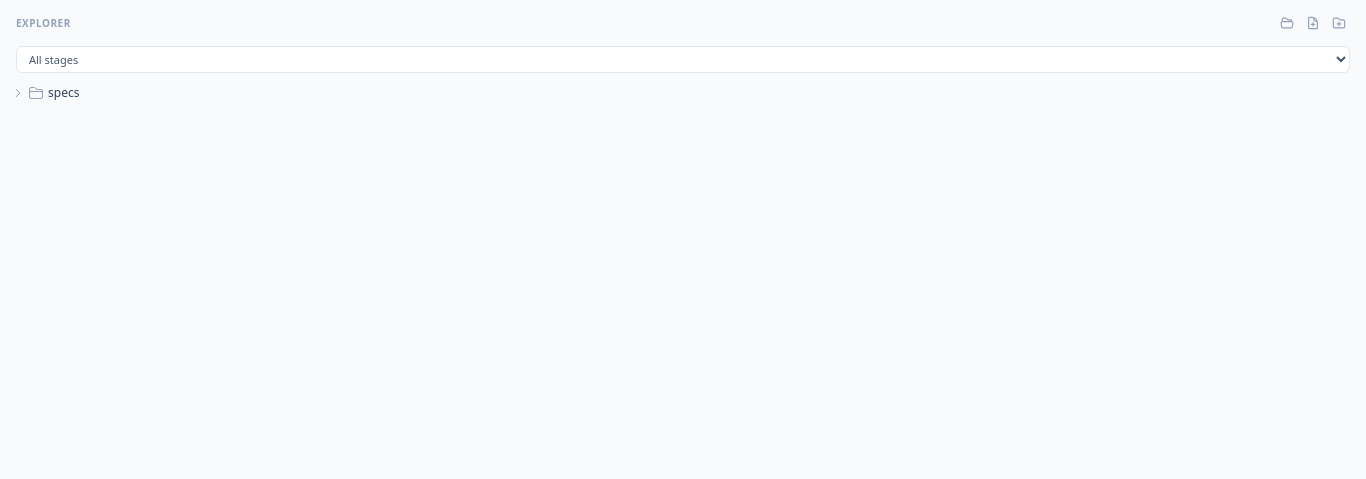
Test: FileTree folder ticket suggestions › shows "Generate ticket suggestions" in folder context menu
The width and height of the screenshot is (1366, 479).
# Right-click on the folder
Right-click the text "specs" at {"x": 64, "y": 92}, box [48,84,79,101]
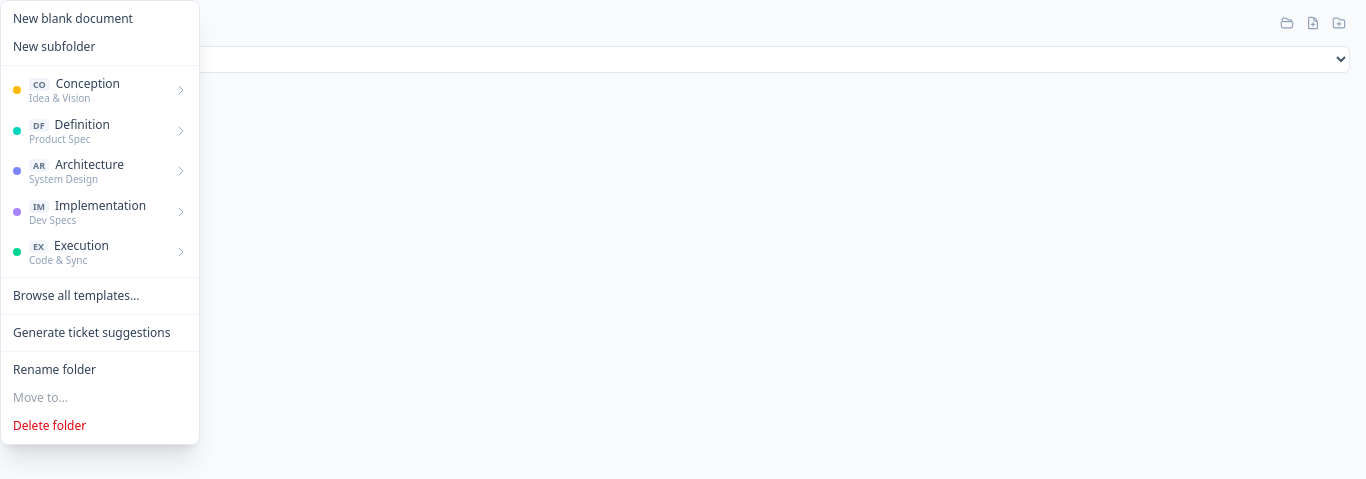
Expected: the menu is shown, [0,0,200,444]
Expected: the menu shows "Generate ticket suggestions", [13,324,170,340]
